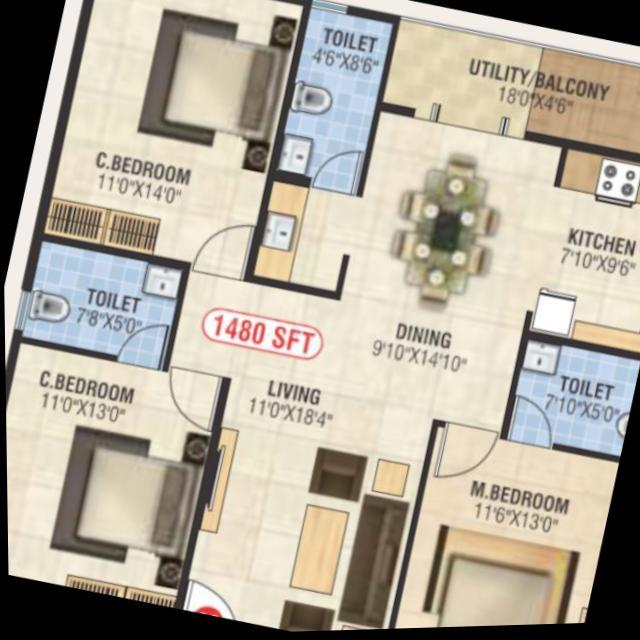Balcony-Sitout: (382, 30, 640, 157)
Bedroom: (42, 0, 298, 276)
Bedroom with Toilet: (5, 237, 223, 609), (389, 339, 640, 631)
Dining: (371, 138, 519, 330)
Enterance-Foyer: (174, 576, 250, 623)
Kitchen: (528, 151, 640, 356)
Living: (180, 283, 454, 633)
Toilet: (274, 12, 396, 197), (20, 244, 176, 367), (507, 344, 639, 458)
